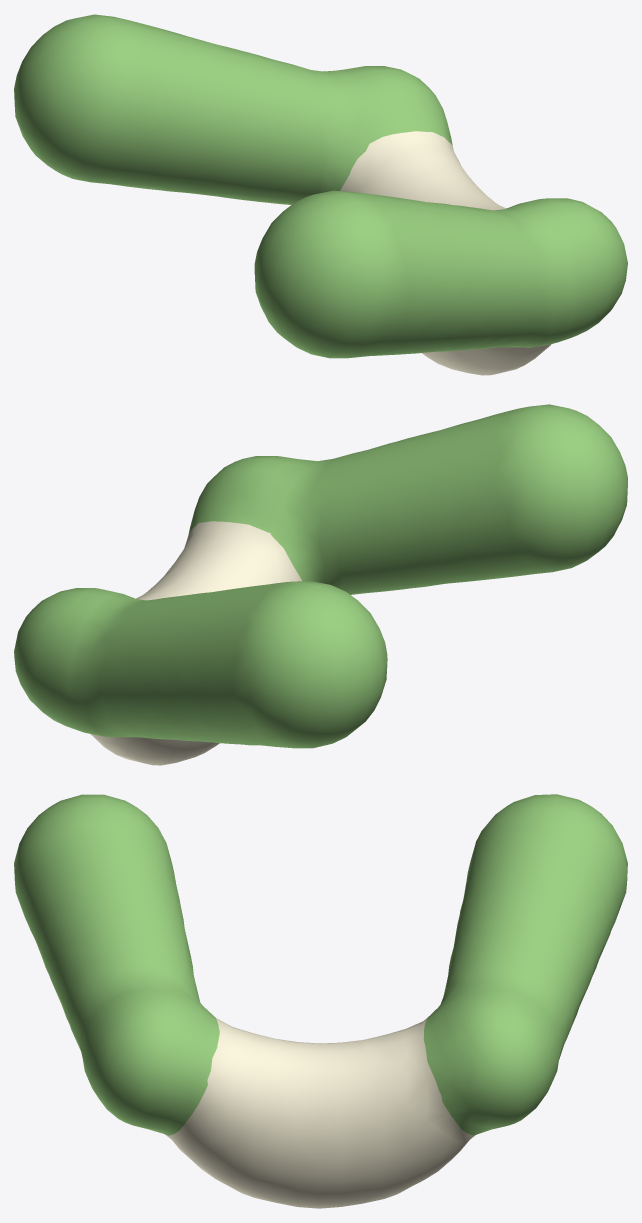
File: prop_moonstone.glb
The picture shows the model from 3 angles, top to bottom: view 1: azimuth 30°, elevation 25°; view 2: azimuth 150°, elevation 25°; view 3: azimuth 270°, elevation 25°; orthographic projection. The views are drawn at different scales.
Parts seen in each view (by area): view 1: body; view 2: body; view 3: body.
Part boxes in pixels (bbox=[...]): body: bbox=[14, 14, 627, 375]; body: bbox=[14, 404, 627, 765]; body: bbox=[14, 794, 627, 1208].
Bounding box in the file's own units: 0.3693 × 0.2821 × 0.5386.
